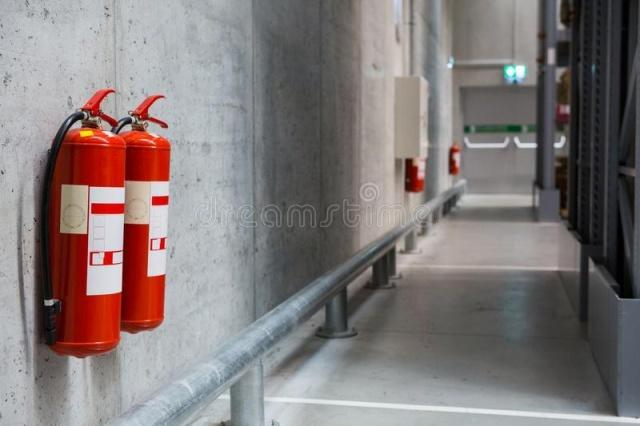APAR: (45, 88, 126, 359), (115, 93, 173, 333)
